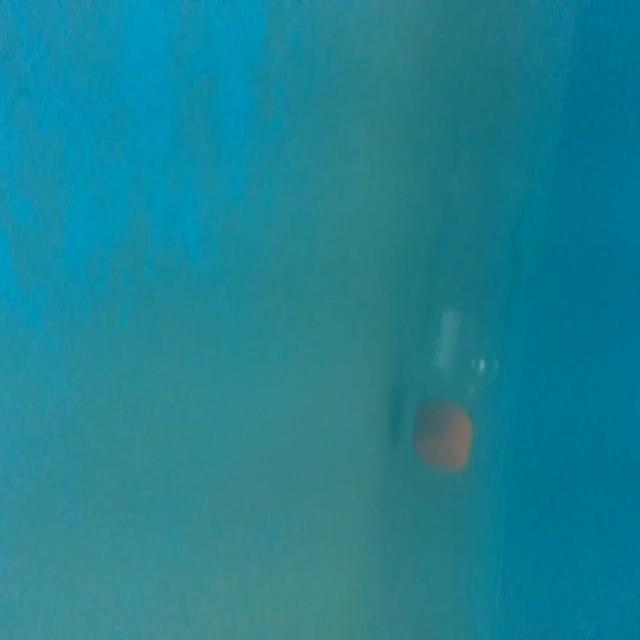plastic bottle: (399, 141, 515, 473)
